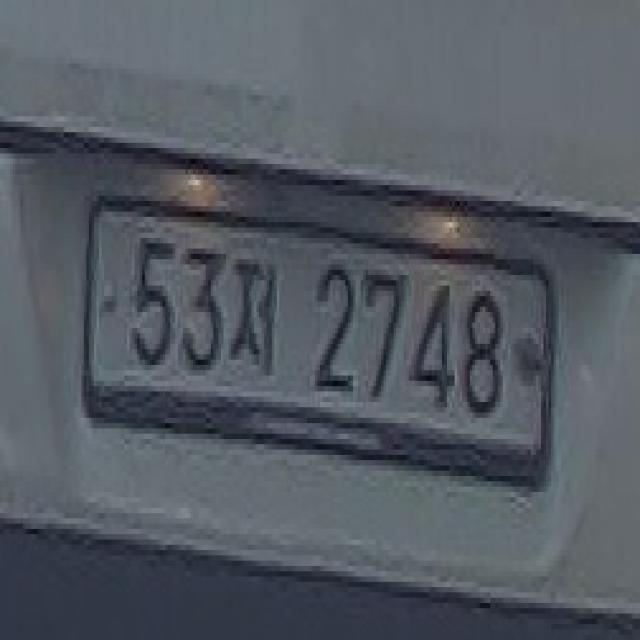2: (310, 259, 358, 413)
3: (178, 243, 226, 386)
4: (412, 270, 457, 423)
5: (132, 232, 175, 376)
7: (358, 254, 412, 418)
8: (462, 275, 508, 439)
jeo: (223, 254, 277, 381)
license_plate: (81, 190, 556, 508)
